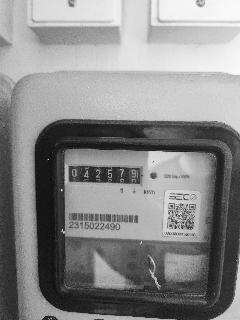1: (72, 169, 76, 177)
3: (96, 170, 100, 178)
5: (84, 170, 88, 178)
6: (108, 170, 112, 178)
8: (120, 169, 124, 177)
:: (132, 170, 136, 178)
